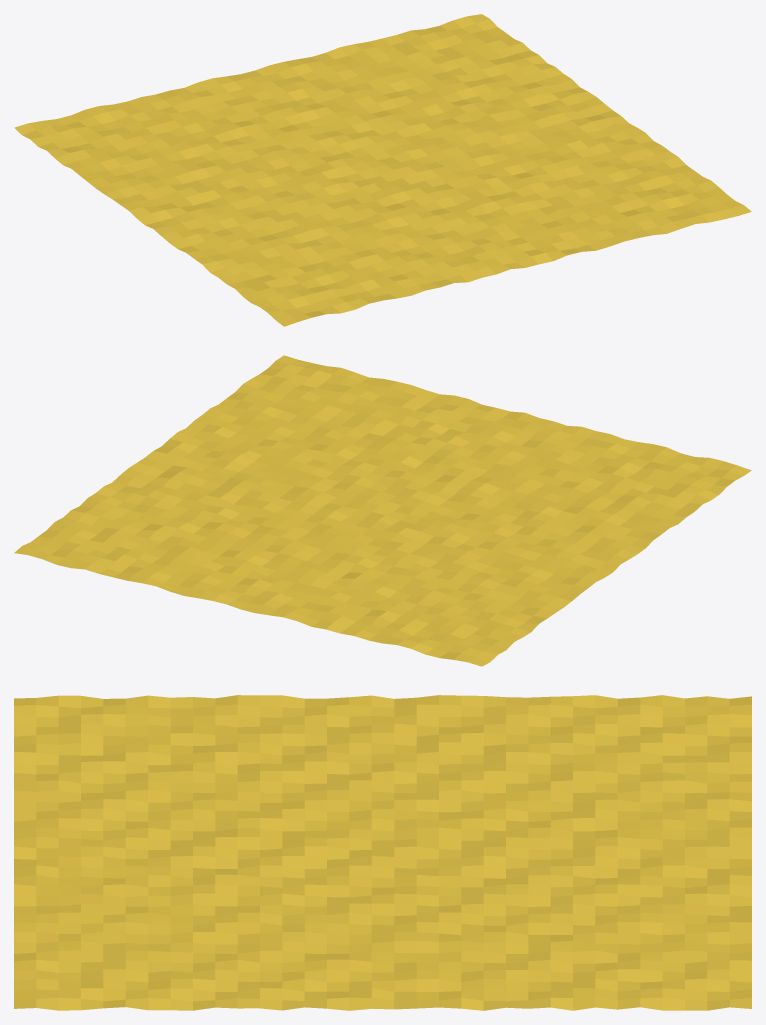
File: OceanTerrain.glb
3 renders of one model, top to bottom at view 1: azimuth 30°, elevation 25°; view 2: azimuth 150°, elevation 25°; view 3: azimuth 270°, elevation 25°, orthographic. The views are drawn at different scales.
Parts seen in each view (by area): view 1: Plane; view 2: Plane; view 3: Plane.
Boxes of the visible parts, box(x1,y1,x2,y2) form: Plane: box(14, 14, 751, 326); Plane: box(14, 355, 751, 666); Plane: box(14, 695, 751, 1010).
Bounding box in the file's own units: 198 × 1.15 × 198.
